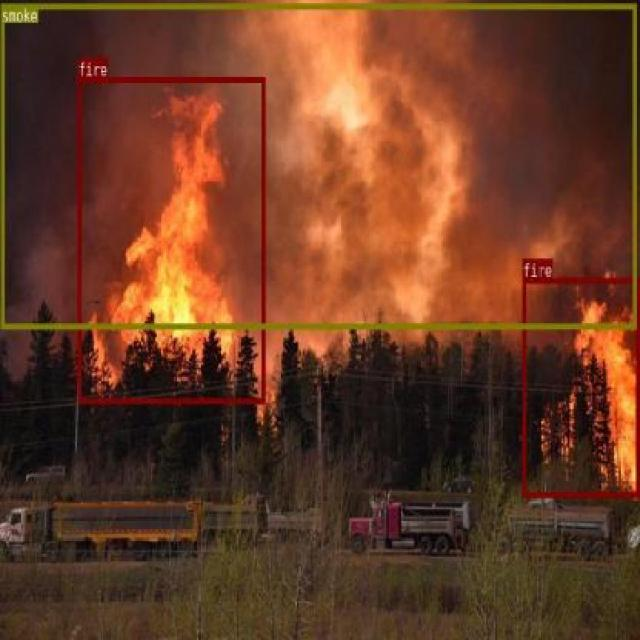fire: (77, 76, 265, 402), (522, 276, 638, 496)
smoke: (0, 3, 635, 327)
